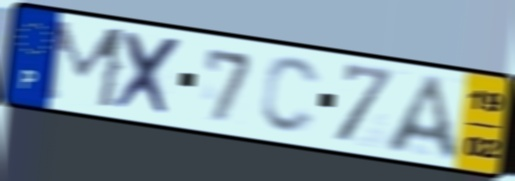7: (333, 60, 397, 146), (202, 46, 254, 123)
A: (381, 72, 465, 165)
C: (257, 54, 324, 137)
M: (39, 17, 131, 113)
X: (112, 28, 186, 121)
